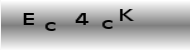4: (74, 11, 89, 26)
E: (22, 12, 35, 26)
K: (119, 7, 134, 22)
c: (101, 18, 113, 30), (44, 21, 56, 32)
